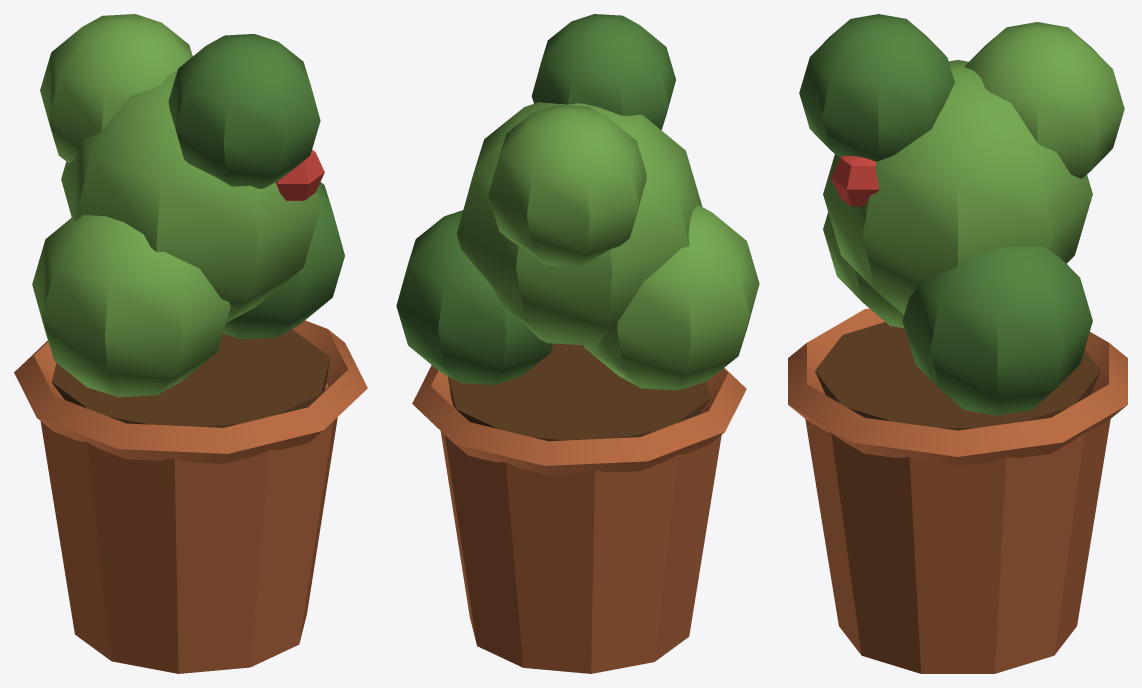
File: PR_Decor_Saksi.fbx
3 views of the same model, side by side, from view 1: azimuth 30°, elevation 25°; view 2: azimuth 150°, elevation 25°; view 3: azimuth 270°, elevation 25° (orthographic). The views are drawn at different scales.
Parts seen in each view (by area): view 1: PR_Decor_Saksi; view 2: PR_Decor_Saksi; view 3: PR_Decor_Saksi.
Part boxes in pixels (left/top/right/bottom): PR_Decor_Saksi: left=14, top=14, right=367, bottom=673; PR_Decor_Saksi: left=396, top=14, right=759, bottom=673; PR_Decor_Saksi: left=788, top=14, right=1127, bottom=673.
Bounding box in the file's own units: 0.48 × 0.85 × 0.428.
